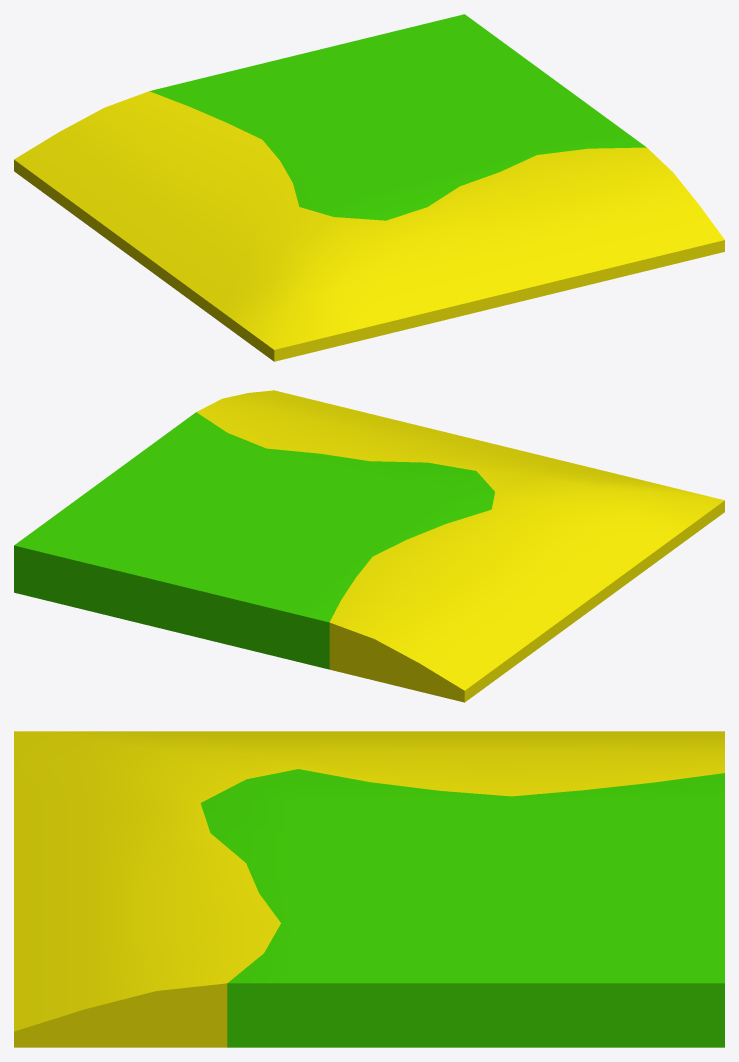
File: island_corner_00.fbx
3 renders of one model, top to bottom at view 1: azimuth 30°, elevation 25°; view 2: azimuth 150°, elevation 25°; view 3: azimuth 270°, elevation 25°, orthographic. The views are drawn at different scales.
Parts seen in each view (by area): view 1: Box001; view 2: Box001; view 3: Box001.
Boxes of the visible parts, x1=… form: Box001: x1=14, y1=14, x2=724, y2=361; Box001: x1=14, y1=390, x2=724, y2=702; Box001: x1=14, y1=731, x2=724, y2=1047.
Bounding box in the file's own units: 400 × 40 × 400.
